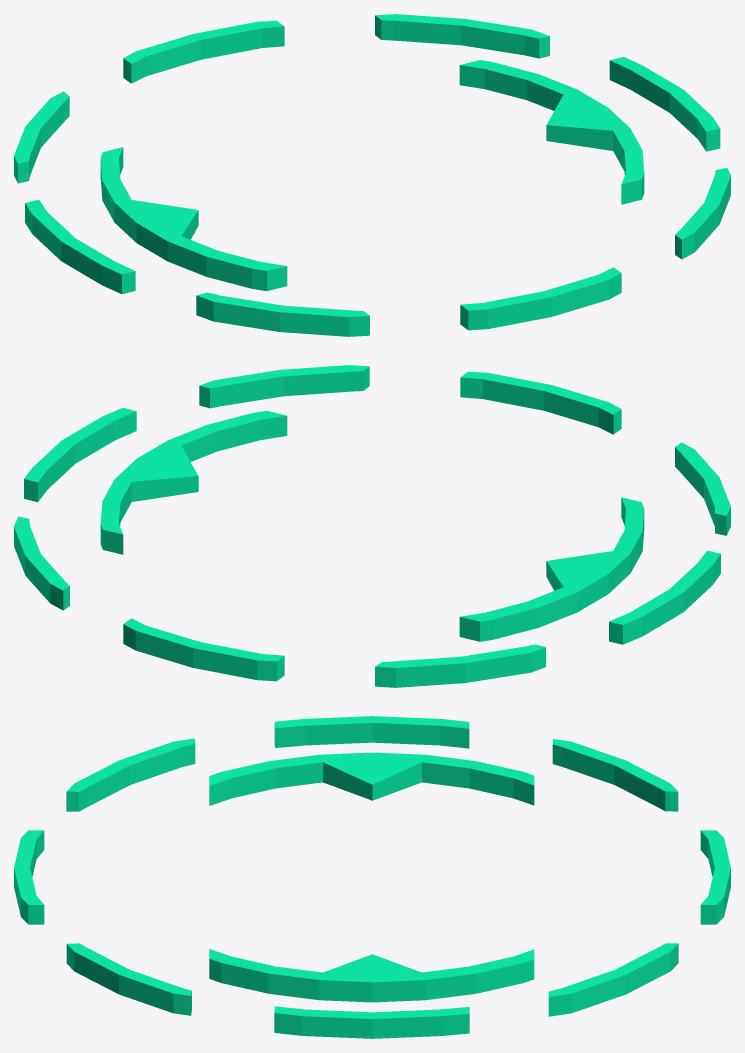
The model's file is highlight.glb.
The picture shows the model from 3 angles, top to bottom: view 1: azimuth 30°, elevation 25°; view 2: azimuth 150°, elevation 25°; view 3: azimuth 270°, elevation 25°; orthographic projection.
Parts seen in each view (by area): view 1: Cylinder, InnerRing; view 2: Cylinder, InnerRing; view 3: Cylinder, InnerRing.
Part boxes in pixels (box(x1,y1,x2,y2)): Cylinder: box(14, 14, 730, 336); InnerRing: box(100, 60, 644, 291); Cylinder: box(14, 365, 730, 687); InnerRing: box(100, 410, 644, 641); Cylinder: box(14, 716, 730, 1038); InnerRing: box(209, 752, 534, 1002).
Bounding box in the file's own units: 2.64 × 0.0819 × 2.64.
